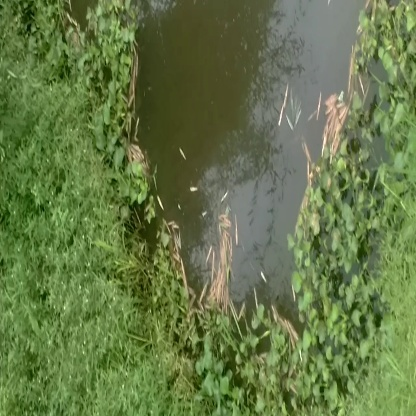leaf: (196, 225, 246, 305)
